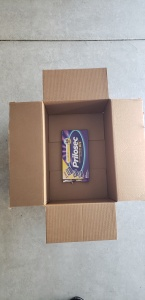innerbox: (42, 100, 117, 203)
outerbox: (9, 69, 144, 242)
product: (62, 129, 91, 181)
